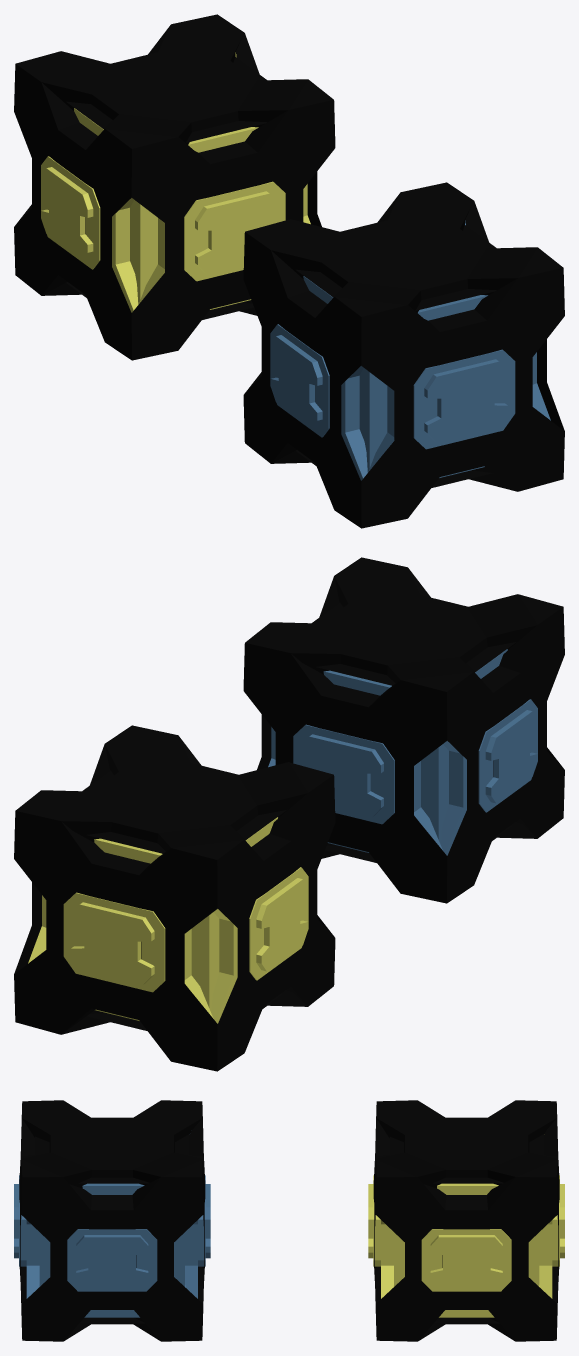
File: collectibles_fix.fbx
The picture shows the model from 3 angles, top to bottom: view 1: azimuth 30°, elevation 25°; view 2: azimuth 150°, elevation 25°; view 3: azimuth 270°, elevation 25°; orthographic projection. The views are drawn at different scales.
Visible parts, largest first — view 1: shield_boost_outliner, energy_boost_outliner, shield_boost, energy_boost; view 2: energy_boost_outliner, shield_boost_outliner, energy_boost, shield_boost; view 3: shield_boost_outliner, energy_boost_outliner, shield_boost, energy_boost.
Boxes of the visible parts, x1,y1,x2,y2 form: shield_boost_outliner: (243,182,564,528); energy_boost_outliner: (14,14,335,360); shield_boost: (270,220,550,480); energy_boost: (41,52,310,312); energy_boost_outliner: (14,725,335,1071); shield_boost_outliner: (243,557,564,903); energy_boost: (28,817,308,1023); shield_boost: (268,649,537,855); shield_boost_outliner: (19,1100,205,1341); energy_boost_outliner: (373,1100,559,1341); shield_boost: (14,1175,210,1317); energy_boost: (368,1175,564,1317).
Bounding box in the file's own units: 3.13 × 2.9 × 8.79.
